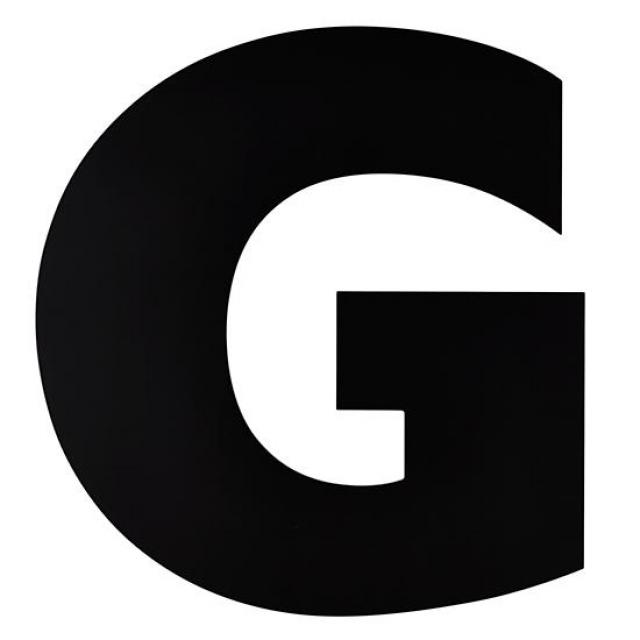G: (11, 20, 622, 630)
